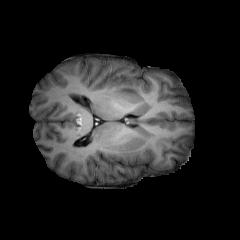glioma: (113, 84, 153, 161)
